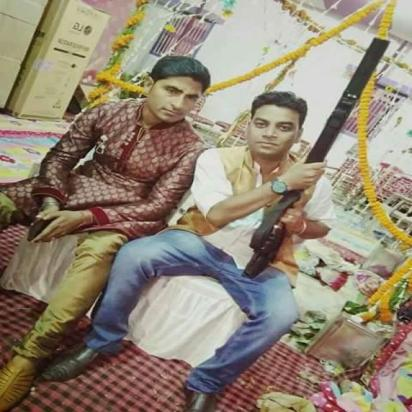Gun: (240, 36, 392, 282)
